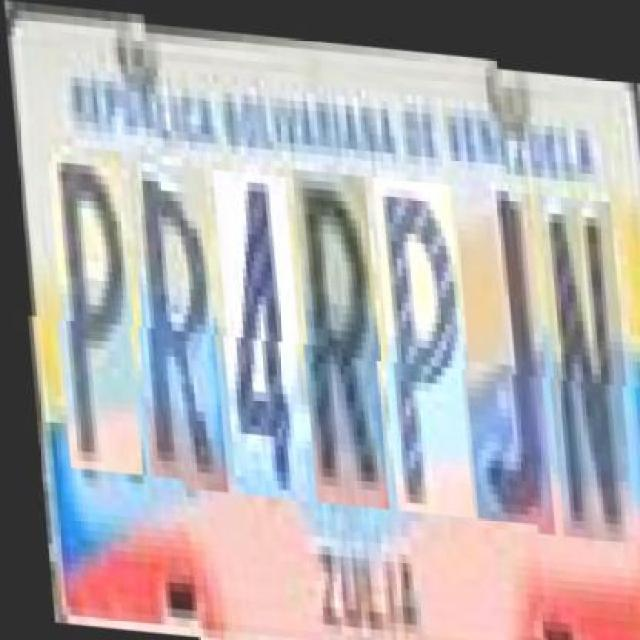4: (208, 164, 304, 496)
j: (450, 168, 550, 515)
n: (534, 175, 631, 522)
p: (370, 170, 470, 508), (44, 150, 139, 482)
r: (124, 158, 224, 490), (290, 163, 385, 503)
